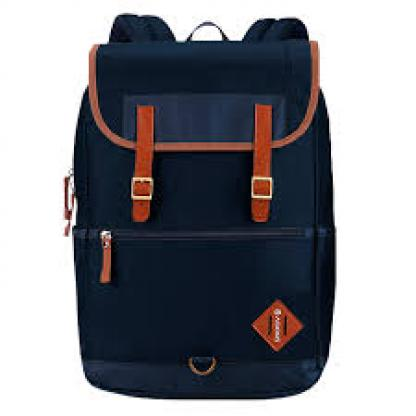morral: (50, 4, 349, 405)
